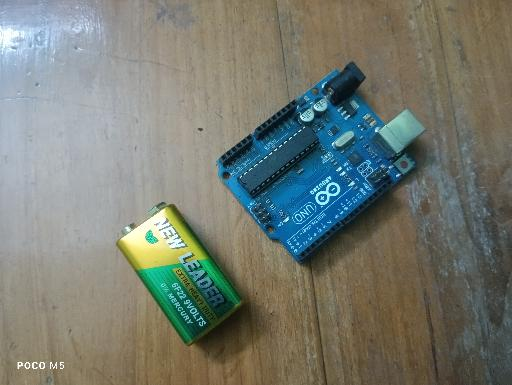Arduino: (216, 61, 426, 265)
Battery: (116, 202, 244, 348)
